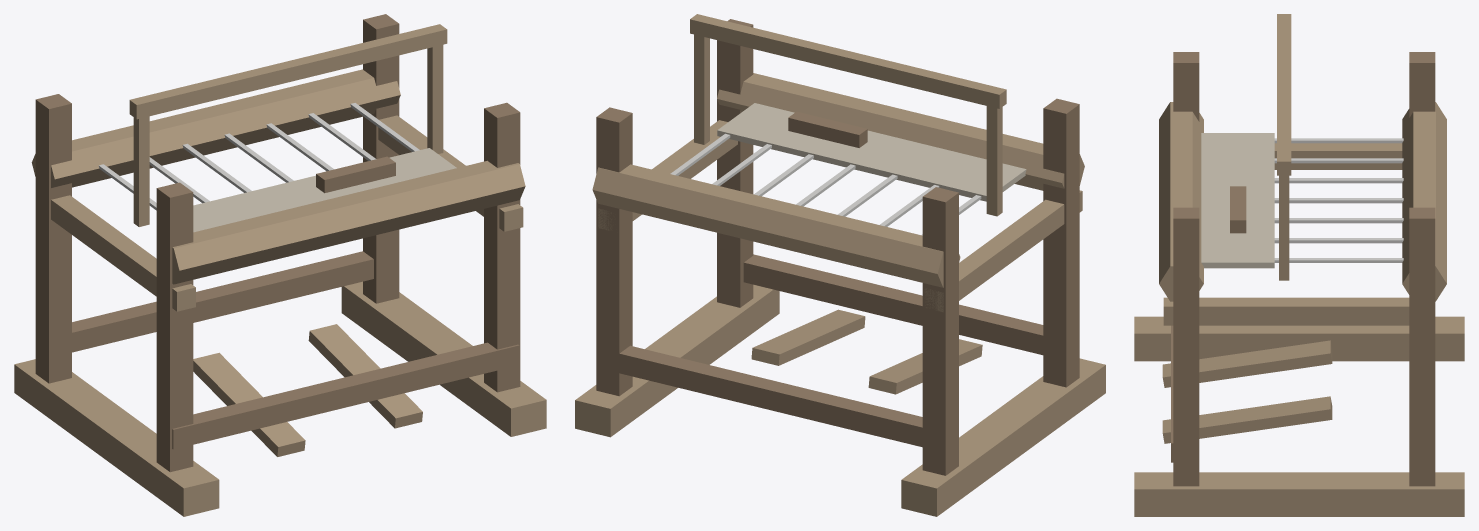
Rendered from loom.glb.
3 renders of one model, left to right at view 1: azimuth 30°, elevation 25°; view 2: azimuth 150°, elevation 25°; view 3: azimuth 270°, elevation 25°, orthographic. The views are drawn at different scales.
Visible parts, largest first — view 1: loom; view 2: loom; view 3: loom.
Boxes of the visible parts, x1,y1,x2,y2 form: loom: [14, 14, 546, 516]; loom: [575, 14, 1105, 516]; loom: [1134, 14, 1464, 516].
Bounding box in the file's own units: 0.5767 × 0.5342 × 0.4667.
